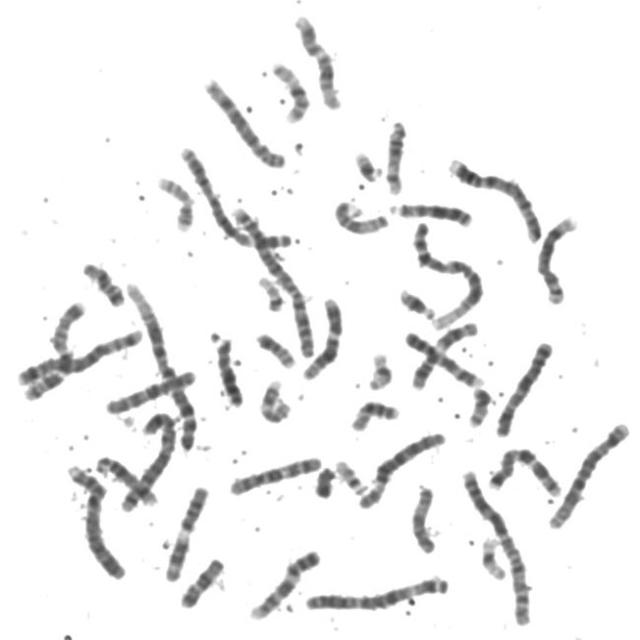A1: (120, 274, 202, 453), (406, 214, 487, 331)
A2: (227, 197, 319, 360), (456, 463, 537, 629)
A3: (175, 139, 296, 252), (300, 568, 454, 614)
B4: (442, 150, 546, 245), (62, 458, 129, 582)
B5: (12, 322, 146, 387), (116, 405, 182, 513)
C10: (100, 362, 200, 416), (223, 449, 326, 498)
C11: (405, 317, 483, 391), (159, 479, 212, 584)
C12: (288, 8, 346, 110), (298, 290, 347, 381)
C6: (543, 415, 634, 532), (352, 424, 450, 510)
C7: (19, 294, 90, 401), (483, 441, 565, 498)
C8: (199, 71, 290, 169), (532, 208, 581, 306)
C9: (244, 543, 324, 622), (398, 334, 486, 391)
D13: (206, 326, 246, 409), (384, 194, 475, 229)
D14: (90, 450, 161, 507), (380, 112, 411, 196)
D15: (328, 194, 392, 236), (406, 478, 440, 556)
E16: (266, 54, 313, 124), (348, 400, 404, 436)
E17: (151, 169, 198, 233), (254, 373, 296, 425)
E18: (175, 552, 228, 610), (78, 255, 128, 308)
F19: (475, 530, 511, 582), (362, 345, 397, 392)
F20: (250, 325, 300, 370), (464, 386, 497, 432)
G21: (394, 281, 439, 322), (348, 144, 387, 183)
G22: (330, 452, 371, 496), (253, 269, 288, 313)
X: (490, 334, 556, 438)
Y: (309, 460, 338, 500)
